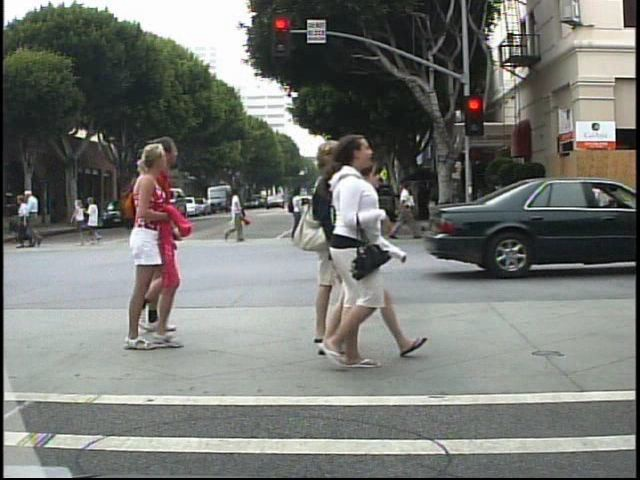person: (105, 145, 191, 354), (319, 136, 390, 375), (331, 159, 408, 370), (281, 146, 341, 357), (149, 140, 203, 336), (391, 177, 424, 242), (221, 185, 248, 250), (284, 182, 307, 240), (16, 197, 39, 251), (28, 188, 47, 249), (366, 187, 381, 223)
